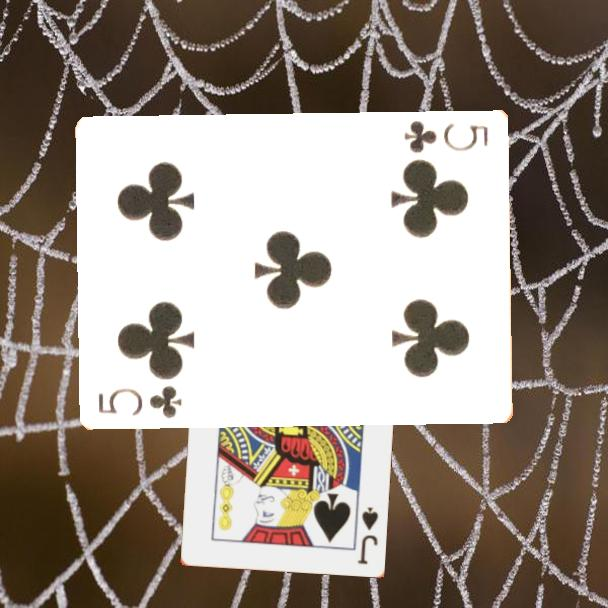c05: (95, 381, 186, 421), (401, 117, 492, 156)
s11: (354, 503, 381, 567)
